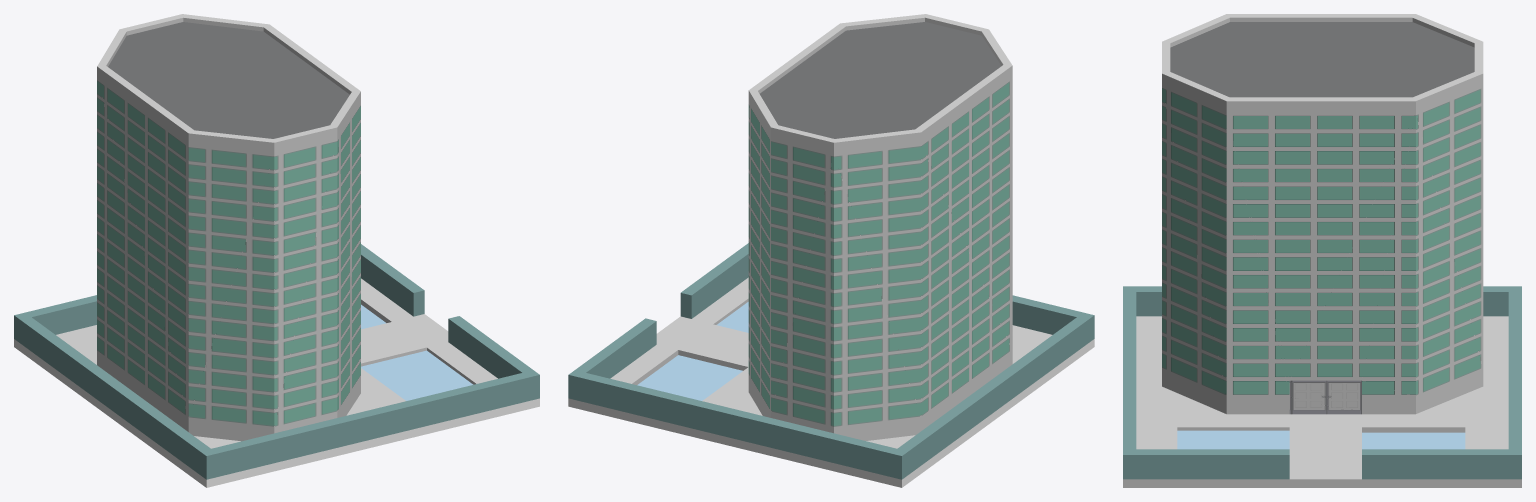
File: buildings_9.dae
The picture shows the model from 3 angles, left to right: view 1: azimuth 30°, elevation 25°; view 2: azimuth 150°, elevation 25°; view 3: azimuth 270°, elevation 25°; orthographic projection. The views are drawn at different scales.
Parts seen in each view (by area): view 1: group_0 (×9); view 2: group_0 (×10); view 3: group_0 (×12).
Boxes of the visible parts, x1,y1,x2,y2 form: group_0 (×9): [14, 14, 539, 487]; group_0 (×10): [568, 14, 1094, 487]; group_0 (×12): [1123, 14, 1521, 487].
Size of the model in its own units: 134 by 134 by 119.
Materials: 7 (6 with a texture image).
